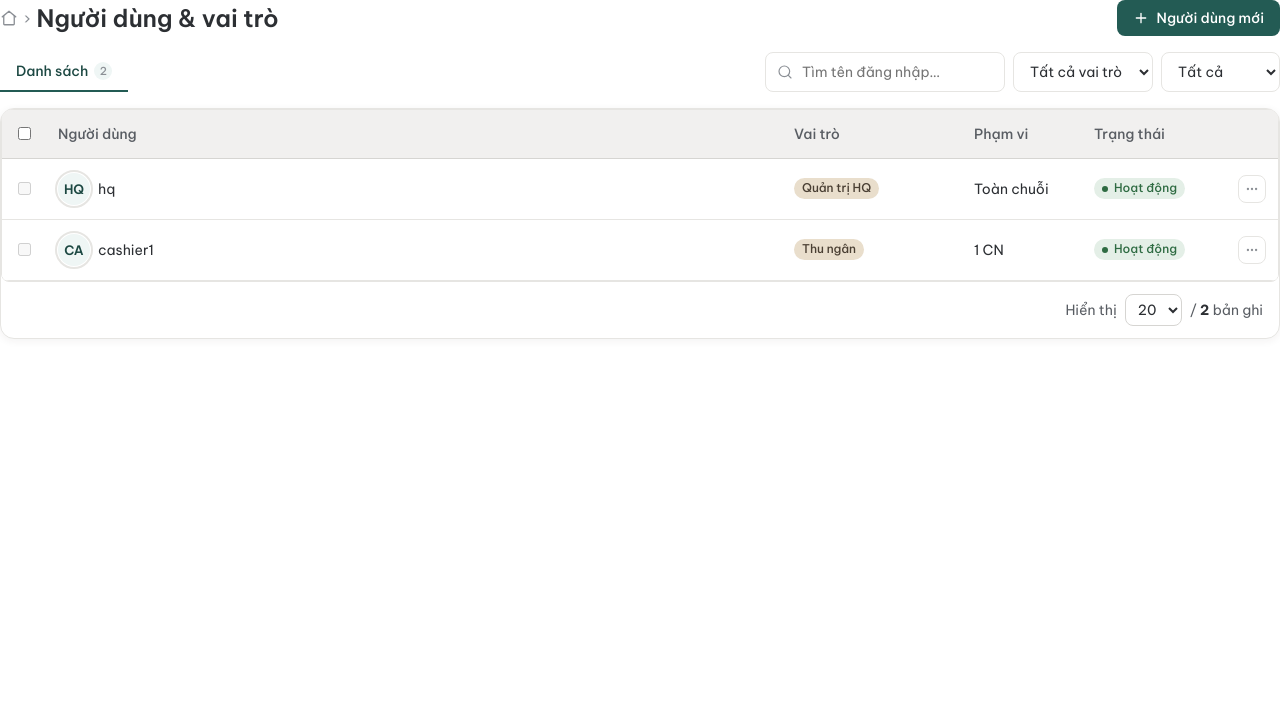
UsersPage › resets a password from the detail drawer and shows the temp password
Step 1. Click the text "cashier1" → coordinates (126, 250), box [98, 240, 154, 258]
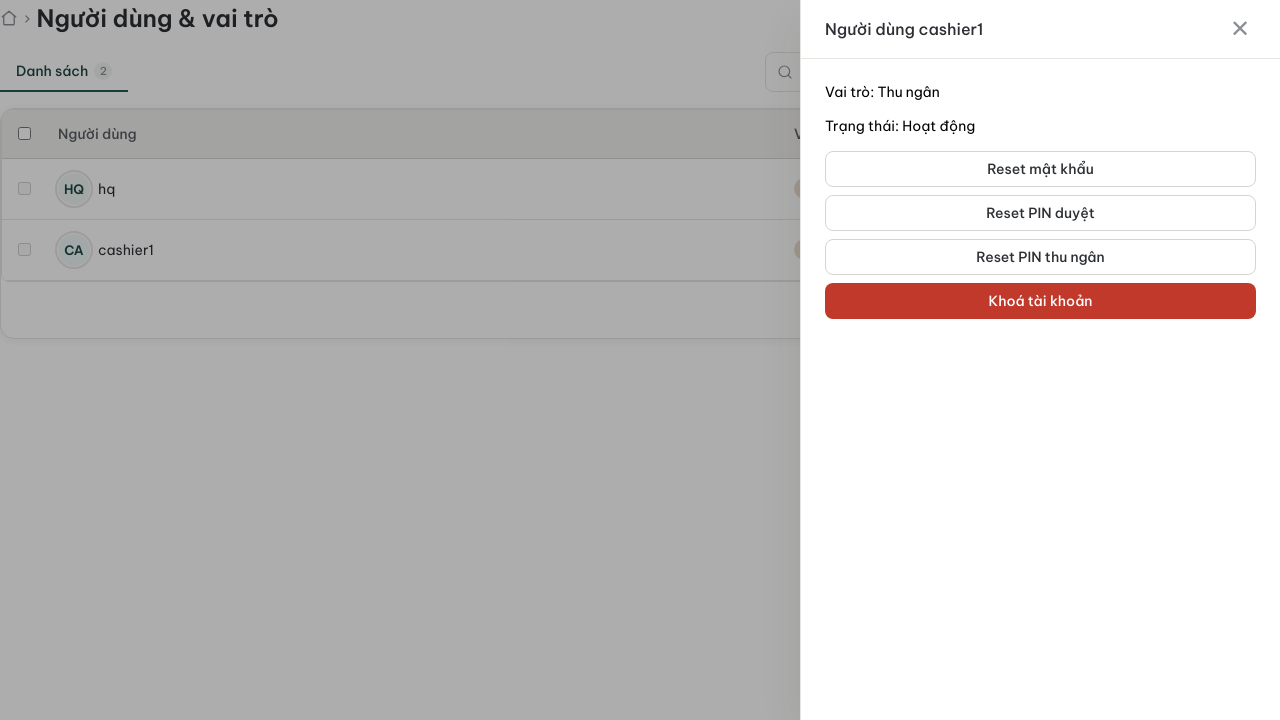
Now the button "Reset mật khẩu" is shown
Step 2. Click the button "Reset mật khẩu" → coordinates (1040, 169), box [825, 151, 1256, 187]
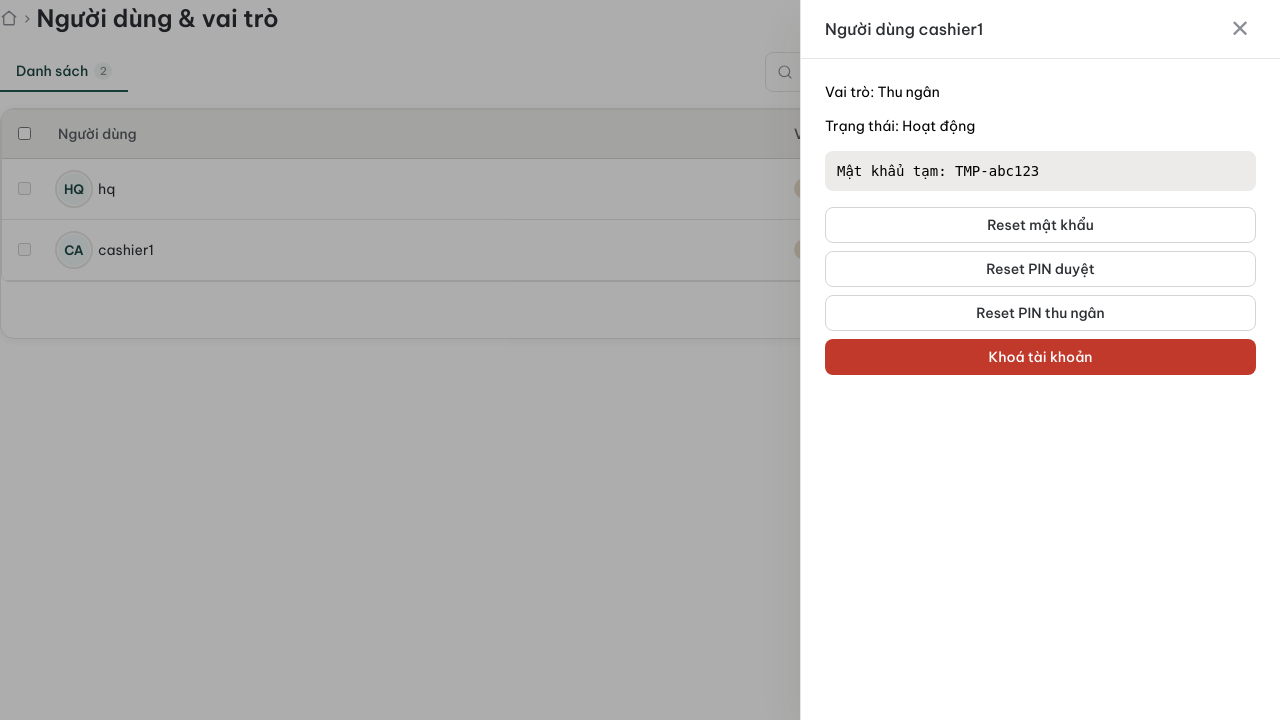
Now the text "Mật khẩu tạm: TMP-abc123" is shown, box [825, 151, 1256, 191]
